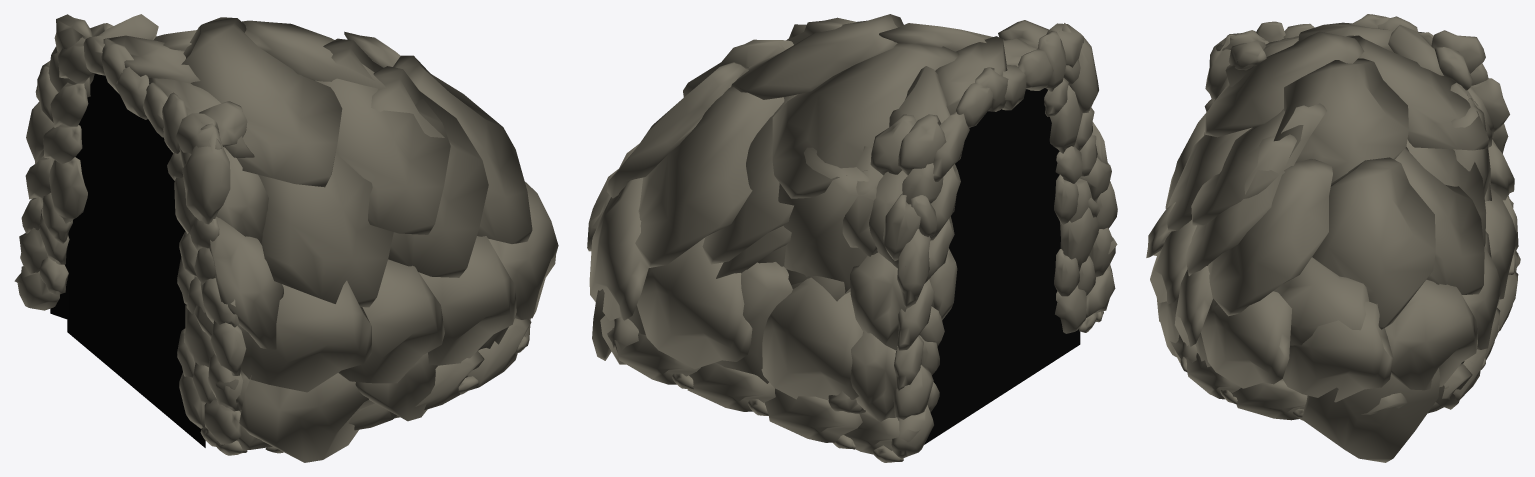
Rendered from SM_Cave.FBX.
3 renders of one model, left to right at view 1: azimuth 30°, elevation 25°; view 2: azimuth 150°, elevation 25°; view 3: azimuth 270°, elevation 25°, orthographic. The views are drawn at different scales.
Parts seen in each view (by area): view 1: Cave; view 2: Cave; view 3: Cave.
Boxes of the visible parts, box(x1,y1,x2,y2) form: Cave: box(14, 14, 558, 462); Cave: box(587, 14, 1117, 462); Cave: box(1146, 14, 1520, 462).
Bounding box in the file's own units: 1846 × 1802 × 1638.
